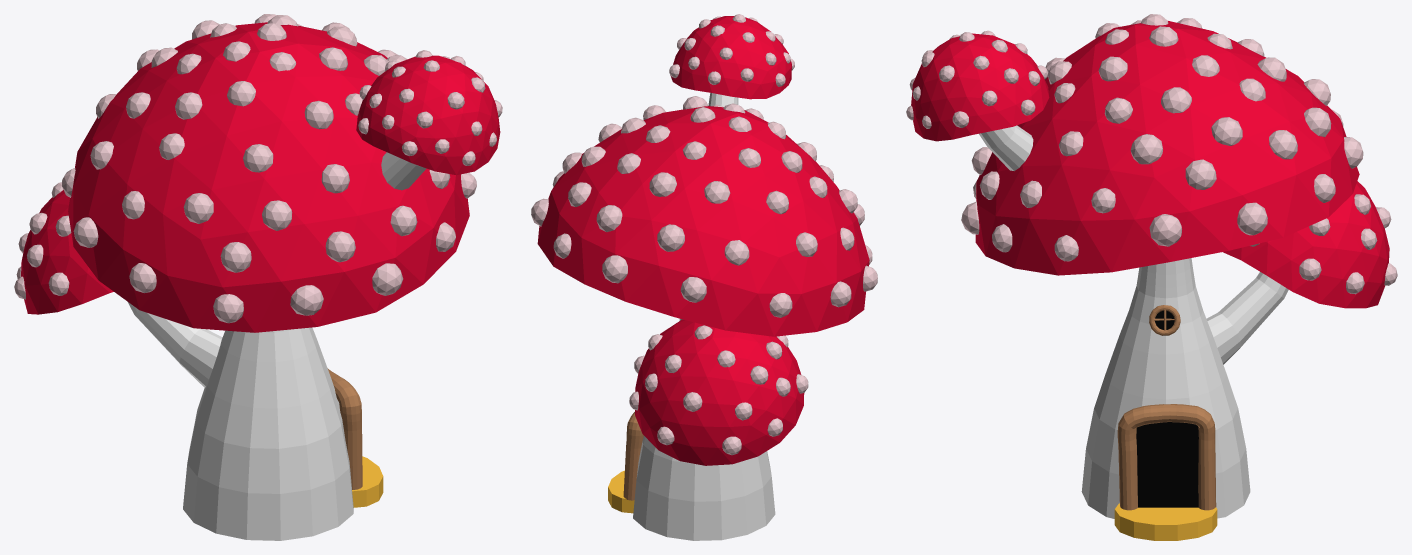
Rendered from BaseFadas2.fbx.
3 views of the same model, side by side, from view 1: azimuth 30°, elevation 25°; view 2: azimuth 150°, elevation 25°; view 3: azimuth 270°, elevation 25° (orthographic). The views are drawn at different scales.
Visible parts, largest first — view 1: Casa Cogu; view 2: Casa Cogu; view 3: Casa Cogu.
Part boxes in pixels (x1,y1,x2,y2): Casa Cogu: [14, 14, 502, 540]; Casa Cogu: [531, 14, 877, 540]; Casa Cogu: [906, 14, 1397, 540].
Bounding box in the file's own units: 5119 × 6803 × 6219.
